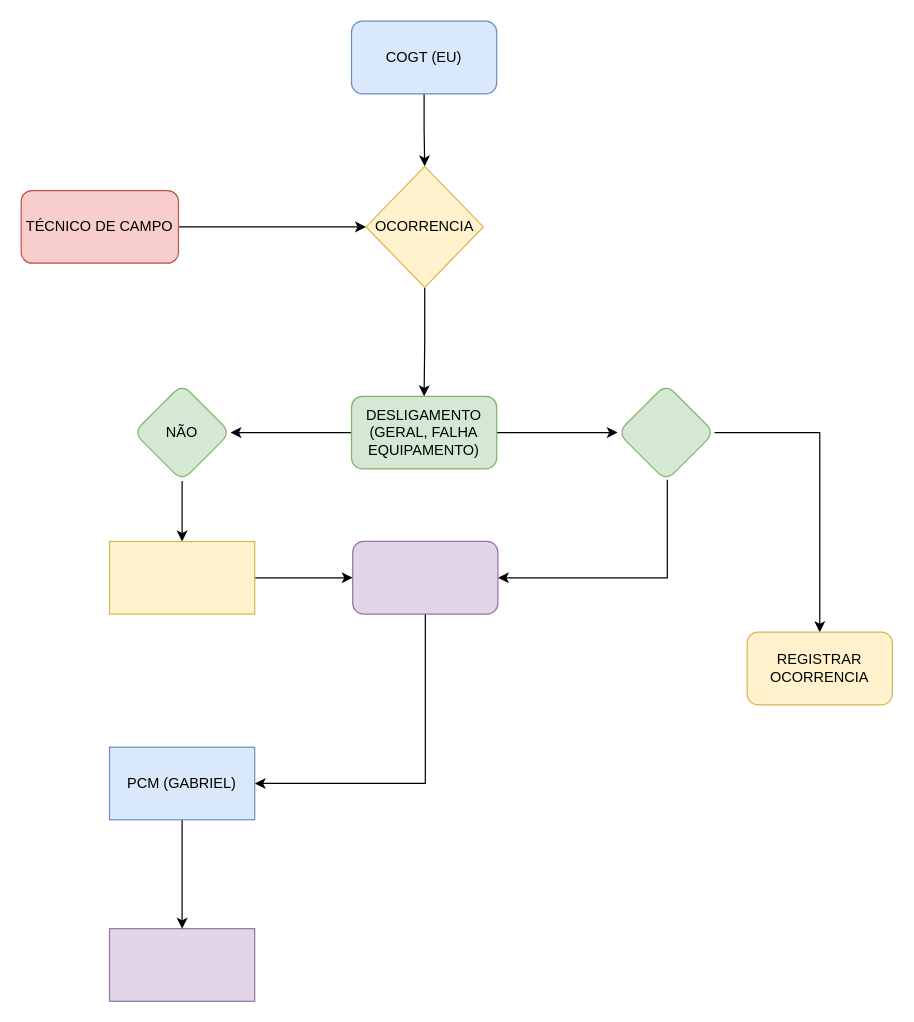
Image size: 914x1022. Some labels were removed from this diagram. Here are the shapes that lost their labels. From the top down, the centre of each, then its label:
At [665,432]: "SIM".
At [181,577]: "SERVIÇO NA USINA. ( Manutenção ? )".
At [425,577]: "GERAR SOLICITAÇÃO SERVIÇO (SS)".
At [181,964]: "GERAR ORDEM DE SERVIÇO (OS)".
